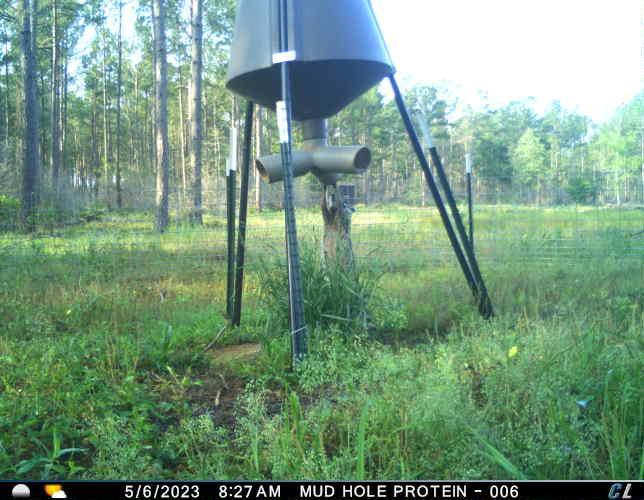Raccoon: (319, 181, 359, 270)
